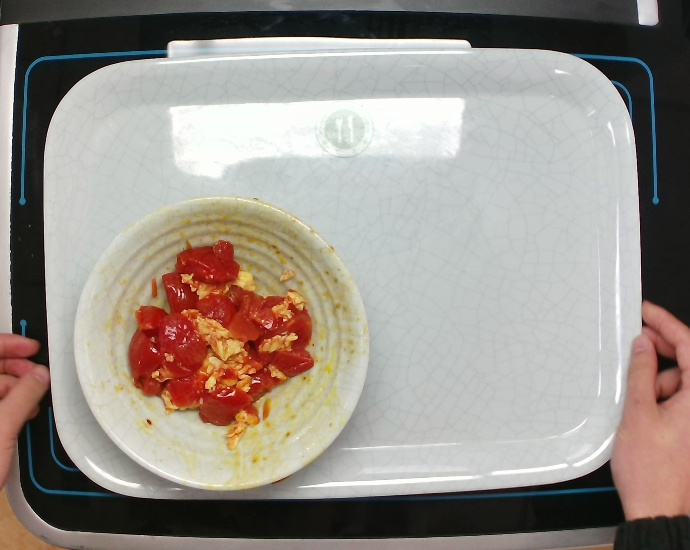JYsf-Xiao_Tang_Wan: (65, 195, 386, 504)
